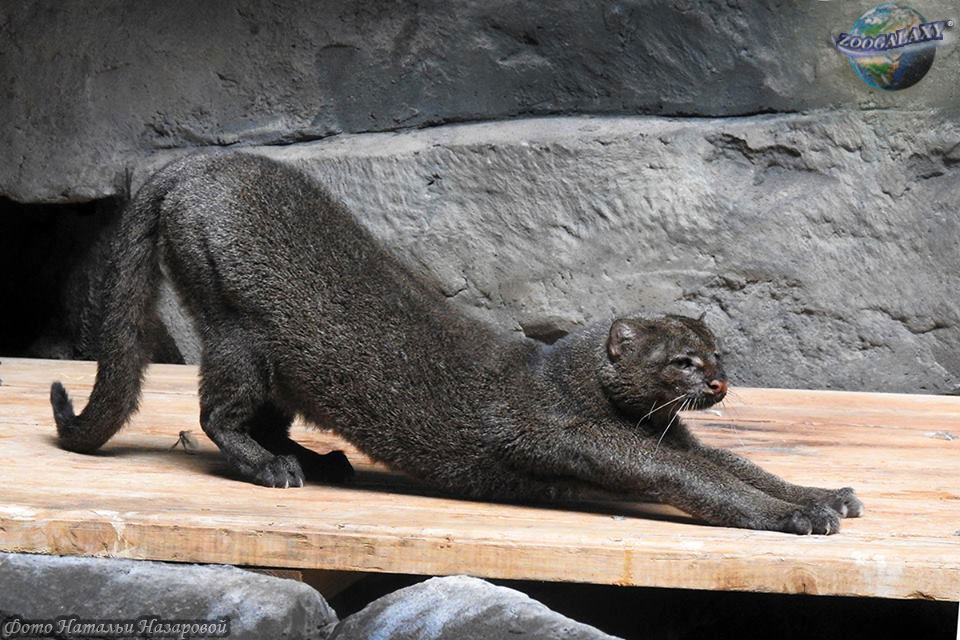Jaguarundi: (39, 138, 874, 545)
